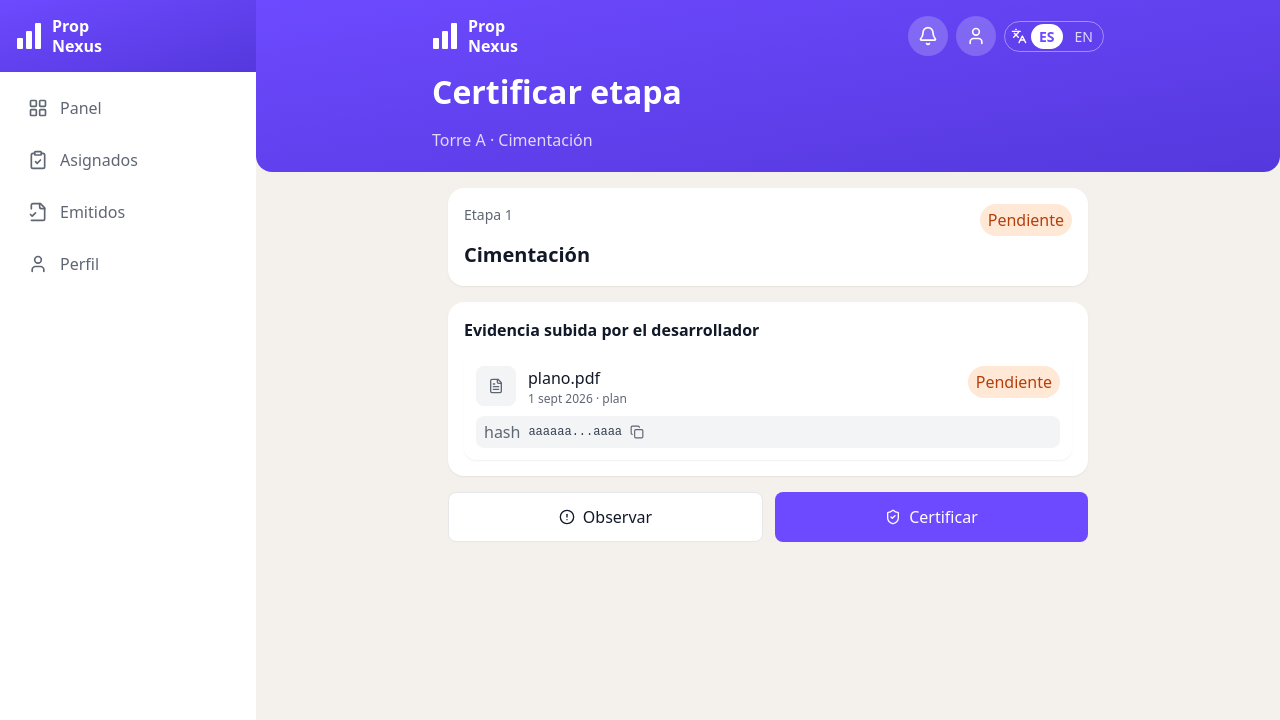
/certifier/stage/$stageId › CER-OBSERVE-001: observar abre el modal y manda la nota a api.observeStage
Expected: the text "plano.pdf" is shown, [528,367,600,389]
Click the button "Observar".
click(606, 517)  # box [448,492,763,542]
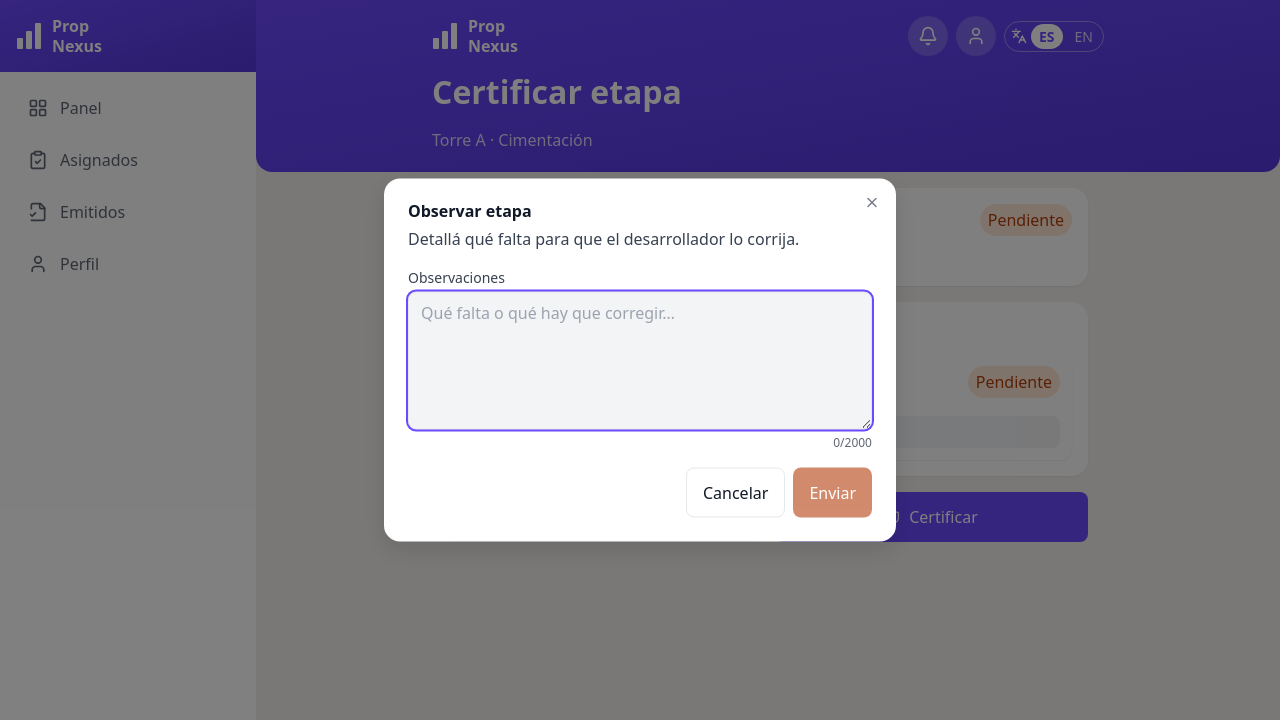
Type "Falta la certificación de obra" into the text box labelled "Observaciones".
click(640, 360); type("Falta la certificación de obra")  # box [408,292,872,430]
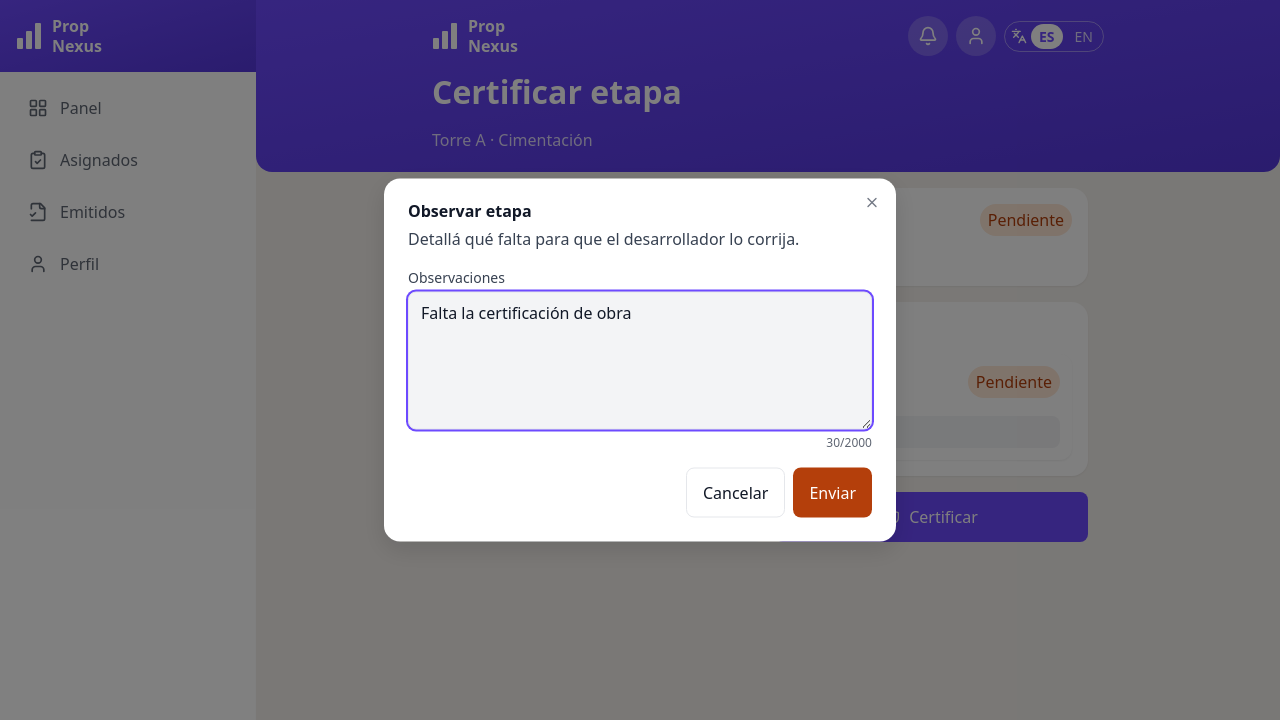
Click the button "Enviar".
click(833, 492)  # box [793,468,872,518]
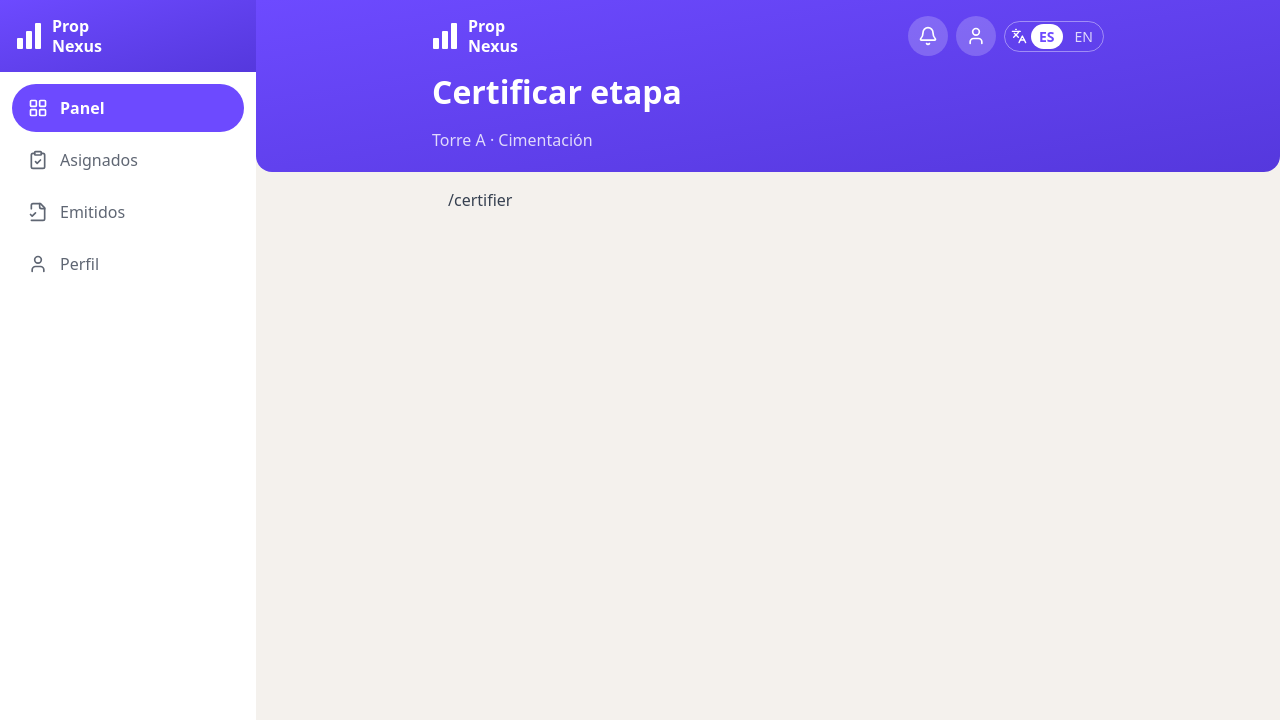
Expected: the text "/certifier" is shown, [448,189,512,211]
